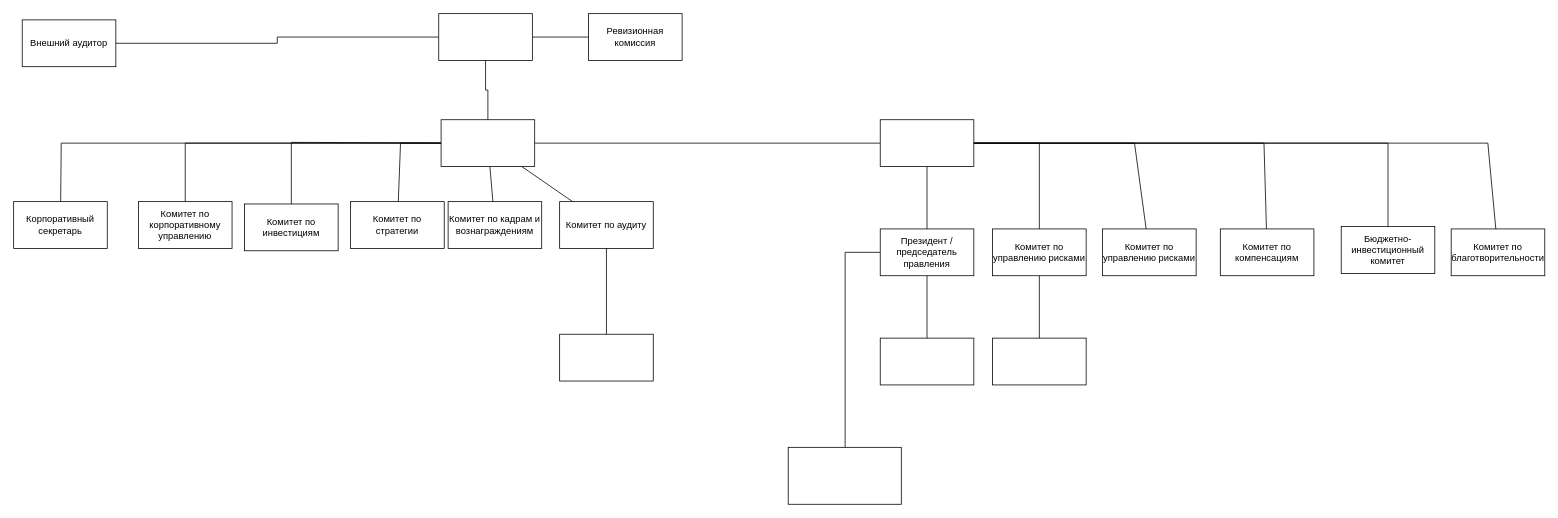
Some shapes in this 1558 by 518 pixel diagram are drawn without their labels. Each missing label, with the centre of its shape:
"Блок внутреннего аудита" goes at (x=606, y=357).
"Общее собрание акционеров" goes at (x=485, y=36).
"Подразделения управления рисками" goes at (x=1039, y=361).
"Правление" goes at (x=926, y=143).
"Совет директоров" goes at (x=487, y=143).
"Старший вице-президент - финансовый сектор" goes at (x=926, y=361).
"Старший вице-президент по организационному развитию и управлению персоналом" goes at (x=844, y=475).
